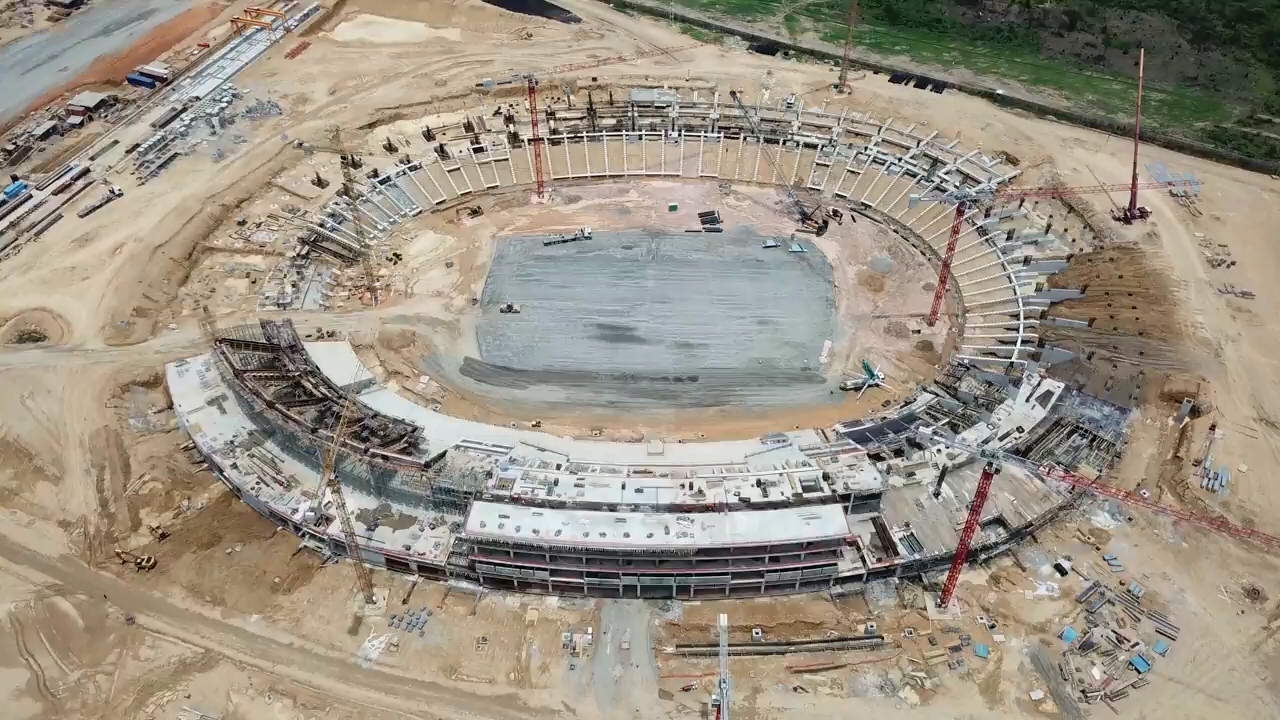ismakinesi: (111, 545, 156, 575), (148, 515, 169, 542)
kamyon: (539, 225, 594, 248)
